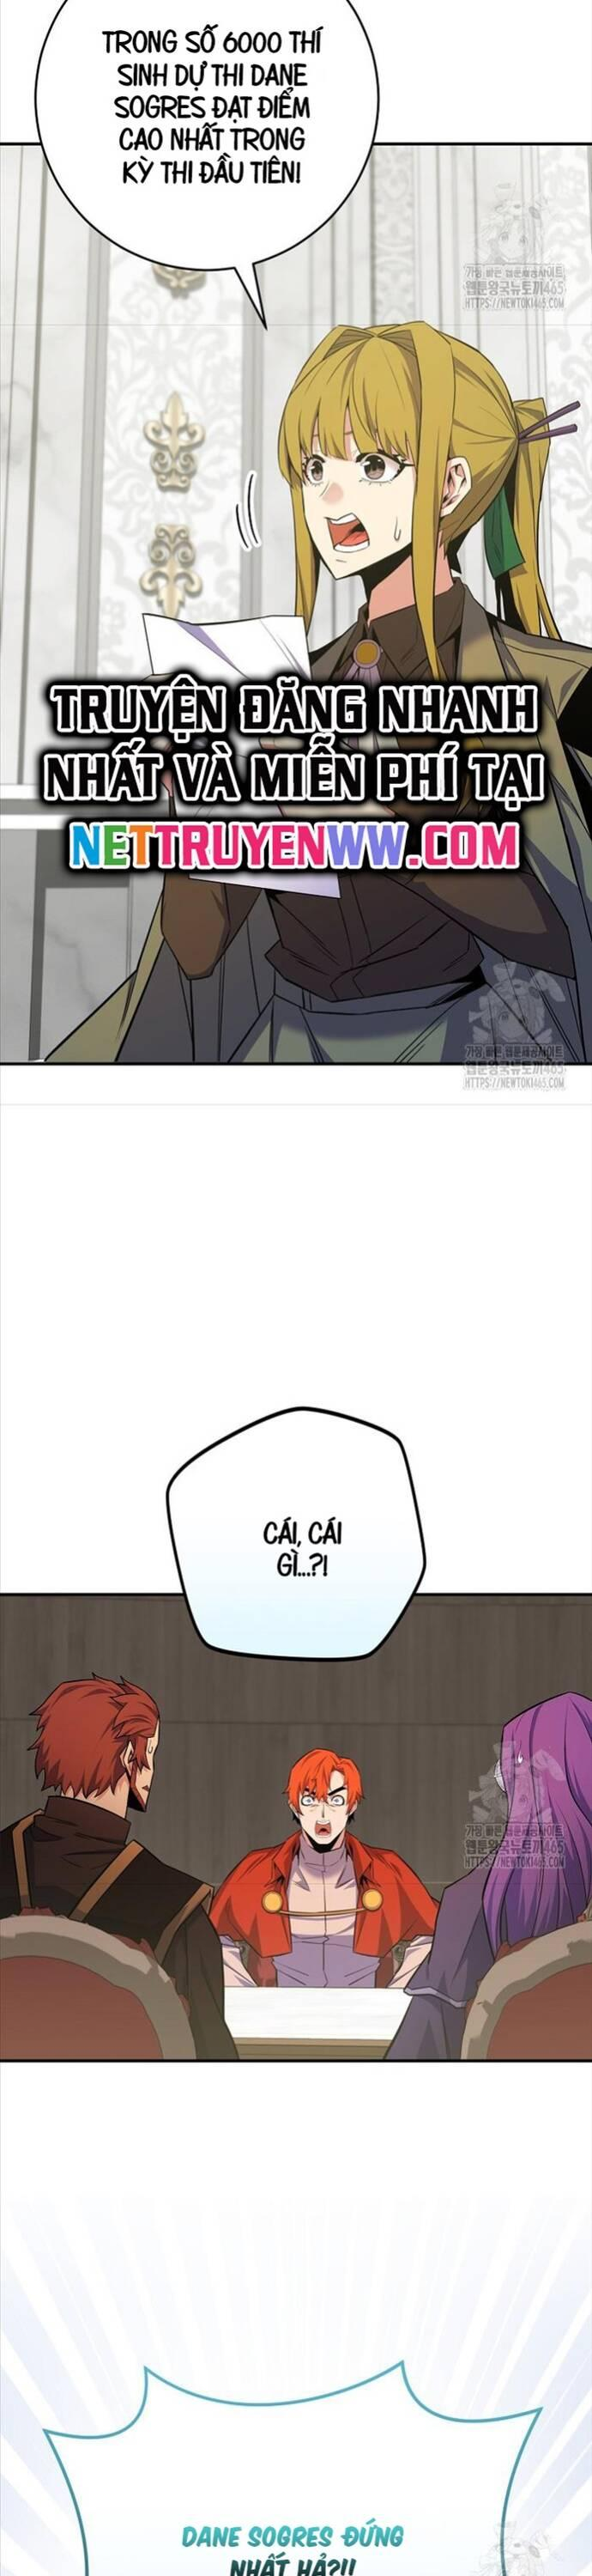quangcao: (34, 660, 558, 894)
